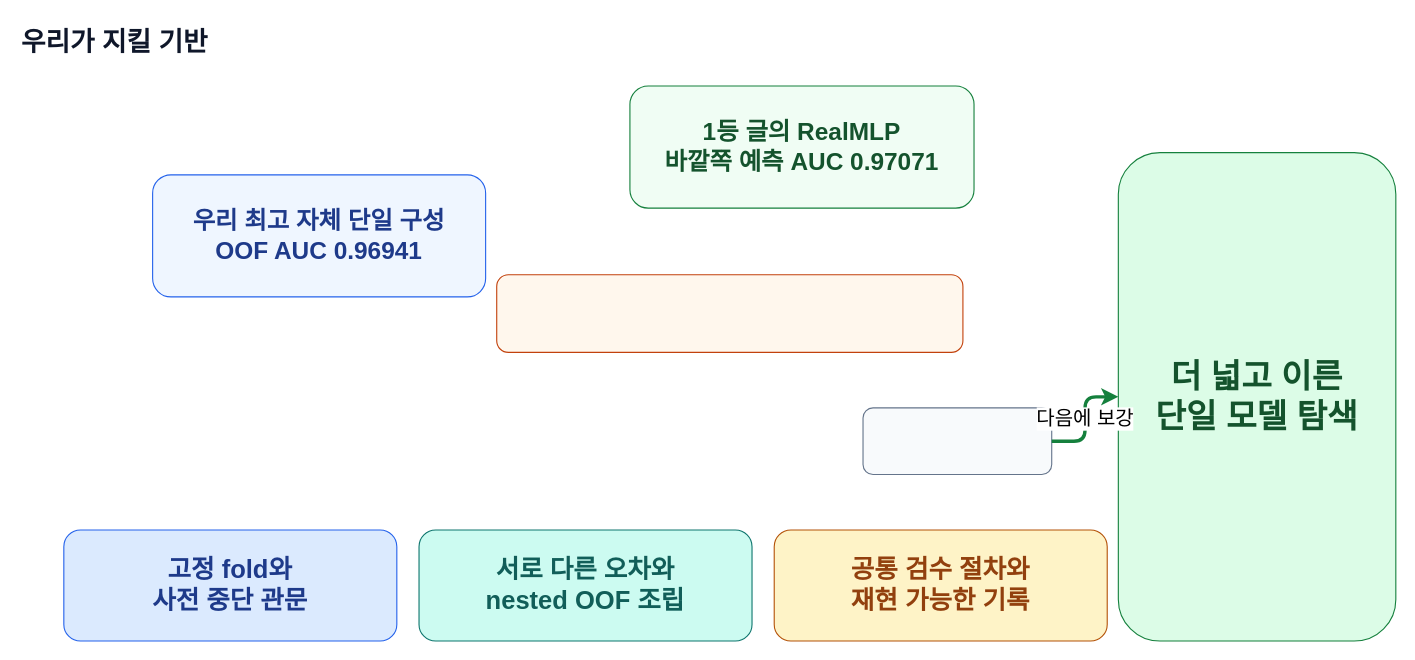
The diagram is 1415 pixels wide and 660 high, and some of its shapes have lost their labels. The box of each missing label's shape, as (x1, y1, x2, y2) in pixels:
서로 다른 검증 명세 · 직접 점수 비교 아님: (496, 274, 963, 352)
회고 해석: (862, 407, 1052, 475)
